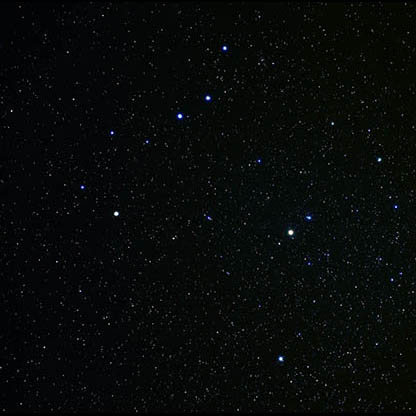Ursa Major: (169, 105, 193, 133), (196, 87, 219, 111), (99, 119, 120, 143), (214, 35, 236, 57), (101, 206, 123, 226), (72, 177, 91, 199), (137, 132, 155, 153)
